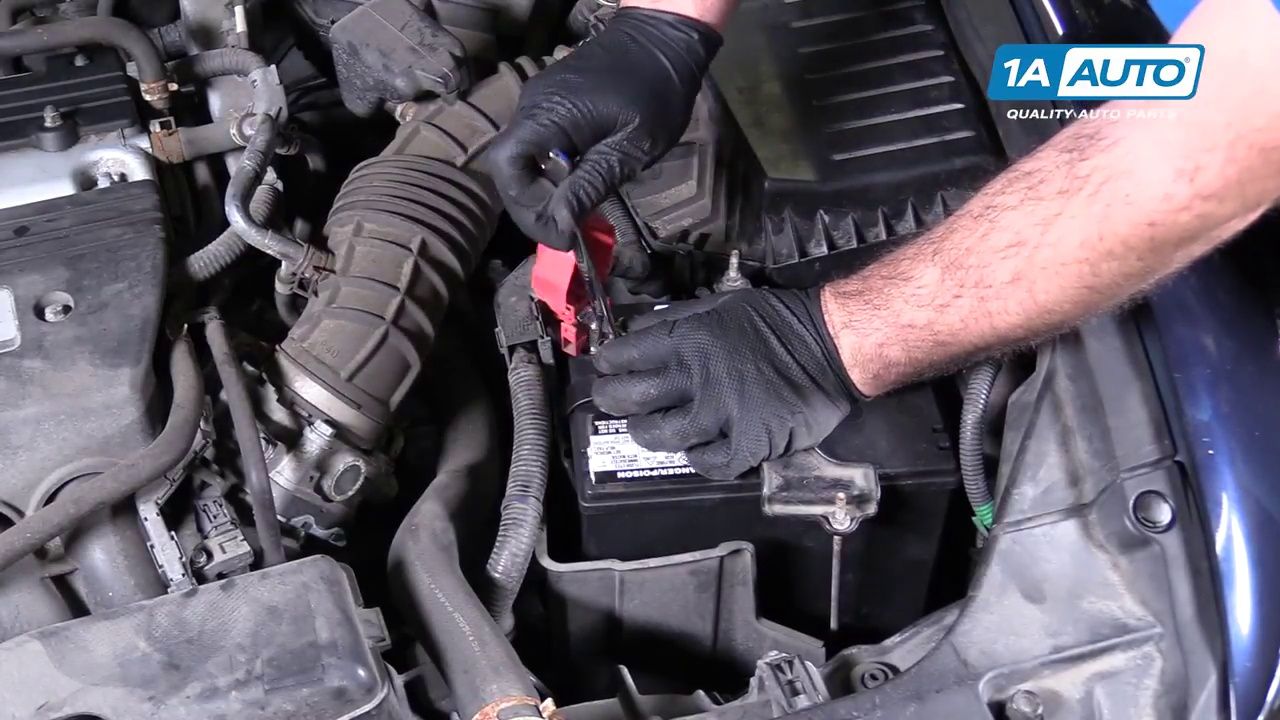battery: (554, 290, 965, 503)
pos_touched: (502, 122, 704, 407)
